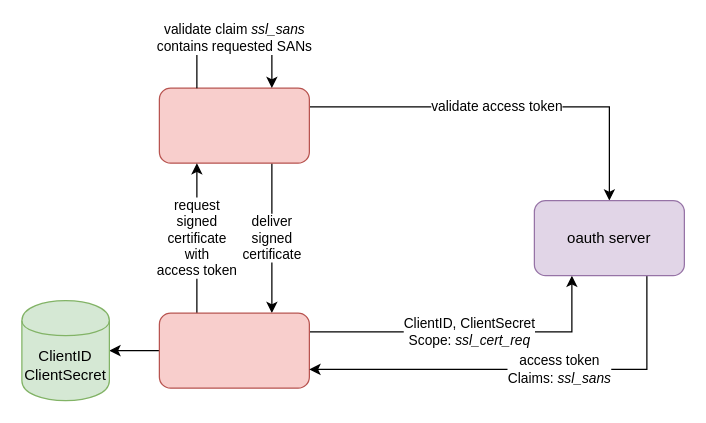
The diagram is 706 pixels wide and 423 high, and some of its shapes have lost their labels. The shapes that lost their labels are listed below. From the top down, each one's centre as x and y in pixels, then its label:
At point 233,125: "<<certbird-ca>>".
At point 233,350: "<<certbird-client>>".
